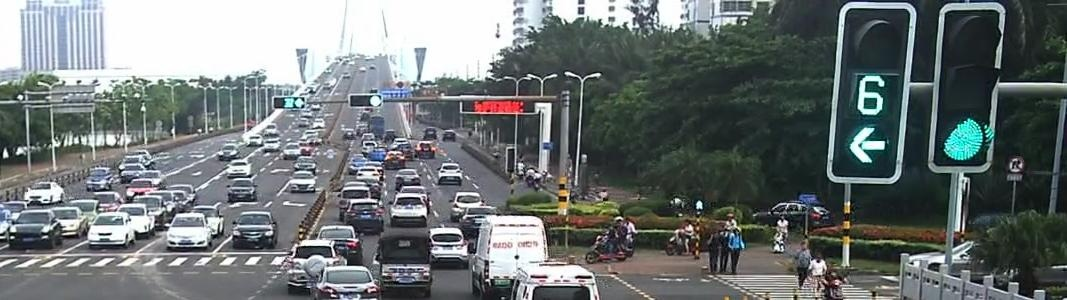green: (938, 117, 991, 162), (368, 94, 380, 110)
greenleft: (848, 126, 894, 168), (295, 95, 306, 111)
greenpeople: (692, 199, 704, 211)
greentime: (852, 72, 889, 118), (285, 94, 293, 107)
